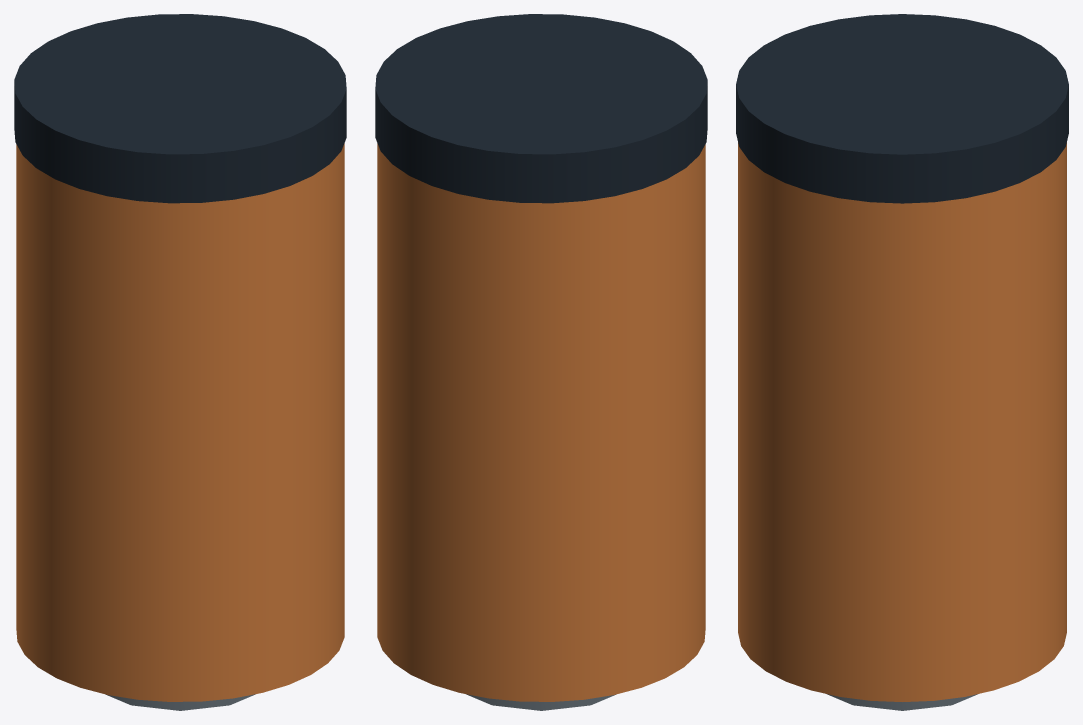
Rendered from sls-stage-2.glb.
3 renders of one model, left to right at view 1: azimuth 30°, elevation 25°; view 2: azimuth 150°, elevation 25°; view 3: azimuth 270°, elevation 25°, orthographic.
Parts seen in each view (by area): view 1: body-1, interstage-1, engine-1-0; view 2: body-1, interstage-1, engine-1-0; view 3: body-1, interstage-1, engine-1-0.
Boxes of the visible parts, <box> form: body-1: <box>16,143,344,701</box>; interstage-1: <box>14,14,346,203</box>; engine-1-0: <box>105,694,255,710</box>; body-1: <box>377,143,705,701</box>; interstage-1: <box>375,14,707,203</box>; engine-1-0: <box>466,694,616,710</box>; body-1: <box>738,142,1066,701</box>; interstage-1: <box>736,14,1068,203</box>; engine-1-0: <box>827,694,977,710</box>.
Bounding box in the file's own units: 8.5 × 16.48 × 8.5.
